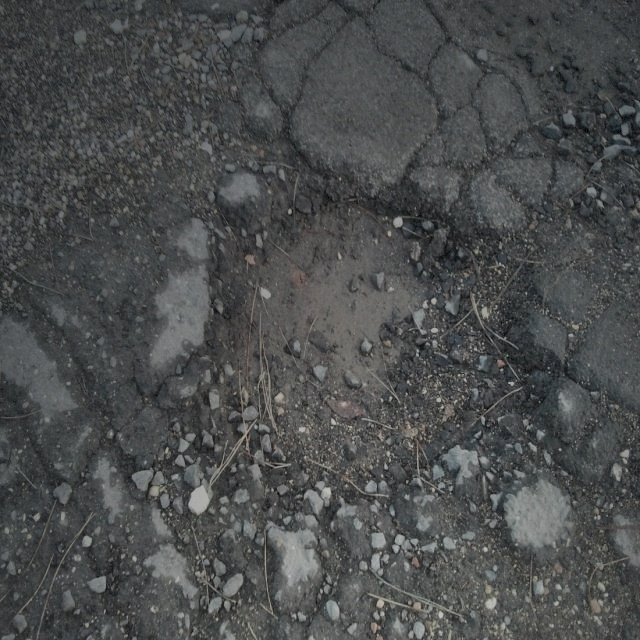pothole: (186, 127, 532, 494)
